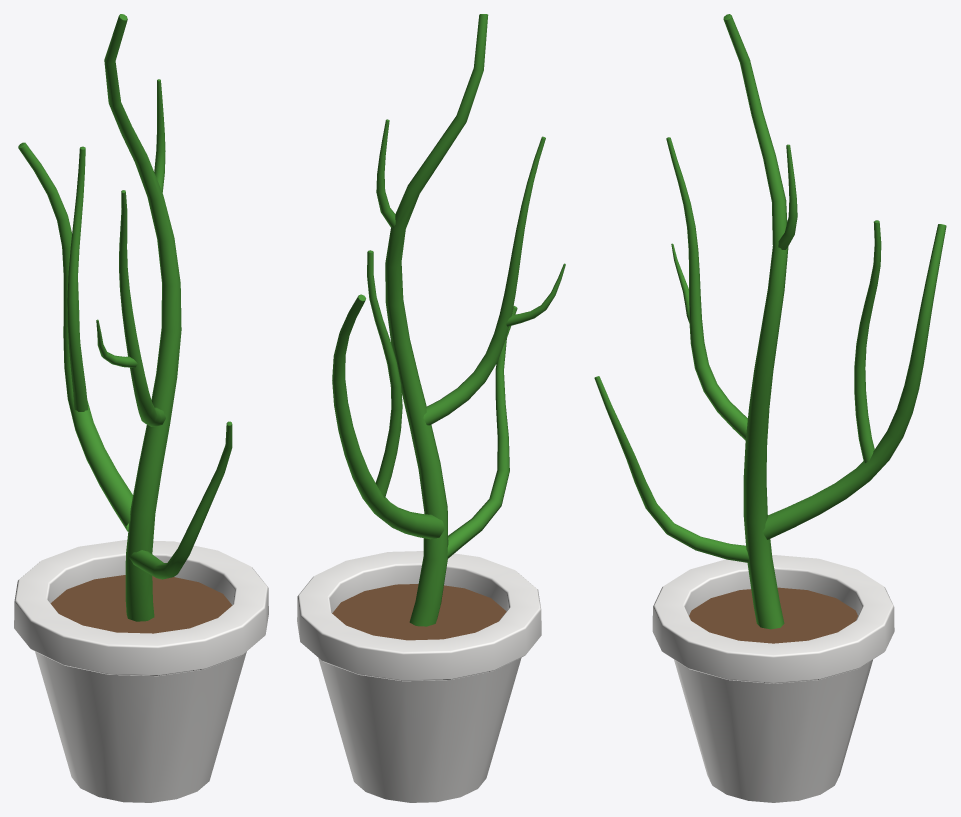
Rendered from Plant_15.glb.
3 views of the same model, side by side, from view 1: azimuth 30°, elevation 25°; view 2: azimuth 150°, elevation 25°; view 3: azimuth 270°, elevation 25° (orthographic). The views are drawn at different scales.
Visible parts, largest first — view 1: Plant_15; view 2: Plant_15; view 3: Plant_15.
Boxes of the visible parts, x1=… form: Plant_15: x1=14, y1=14, x2=268, y2=802; Plant_15: x1=297, y1=14, x2=565, y2=802; Plant_15: x1=594, y1=14, x2=946, y2=802.
Bounding box in the file's own units: 0.5748 × 1.95 × 0.8366.
1 material, 1 textured.
